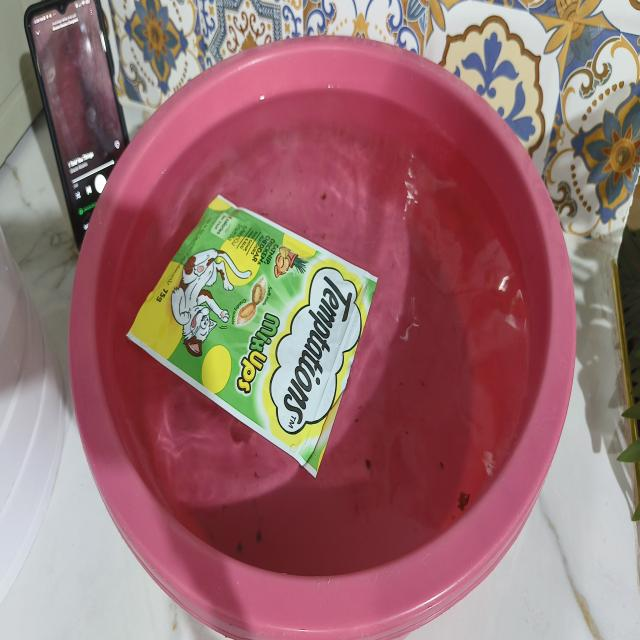Plastic Wrapper: (108, 150, 398, 508)
